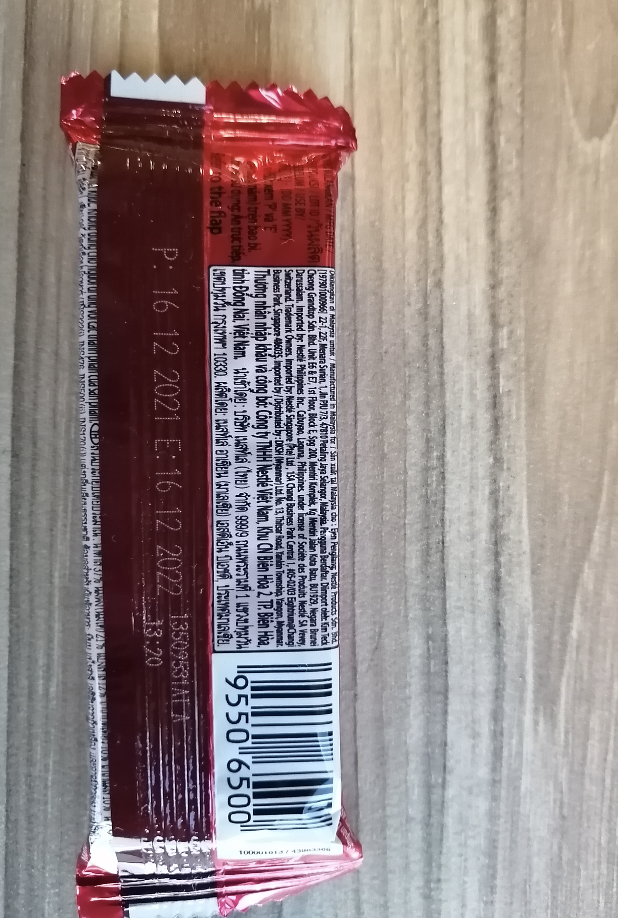Kitkat: (92, 152, 332, 839)
